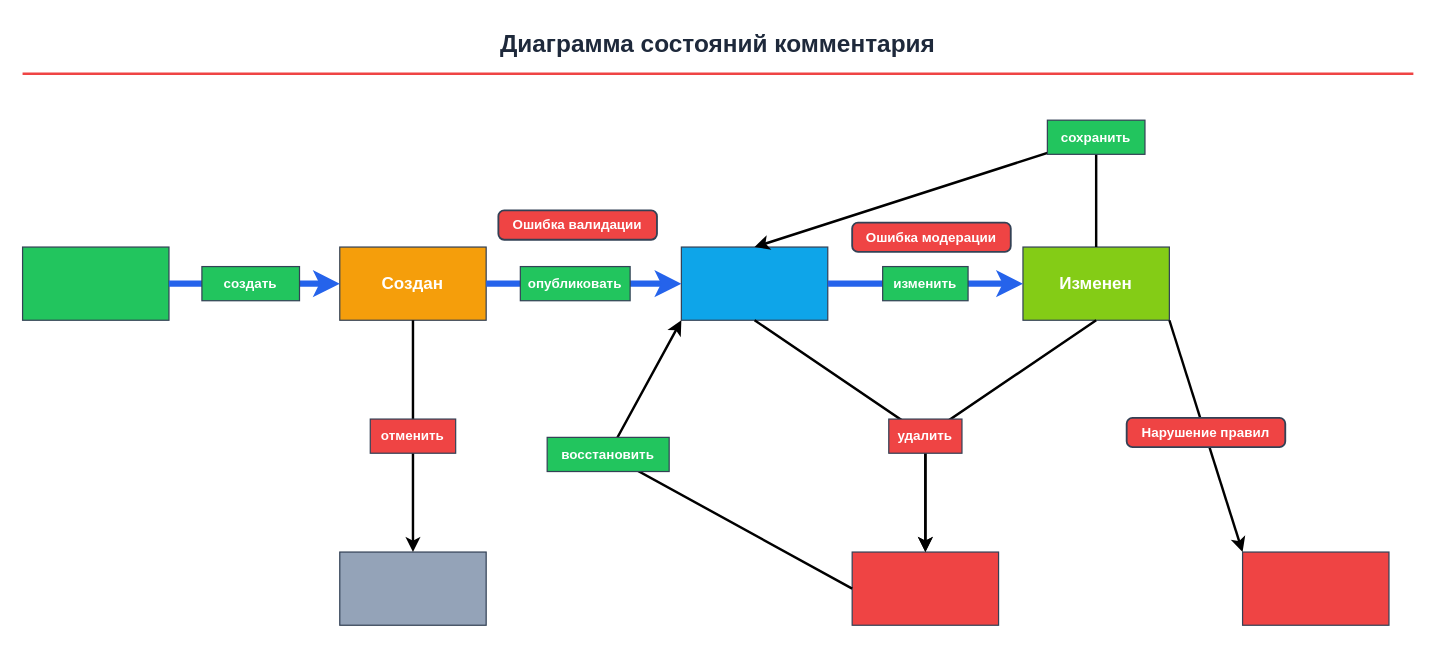
Image size: 1436x647. Some labels were removed from this diagram. Here are the shapes that lost their labels. From the top down, the centre of each, then its label:
At point (95, 283): "Начало".
At point (754, 283): "Опубликован".
At point (412, 588): "Отменен".
At point (925, 588): "Удален".
At point (1315, 588): "Отклонен".
